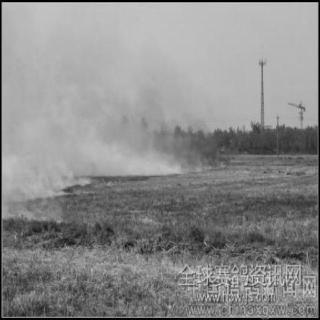Smoke: (17, 80, 176, 177)
